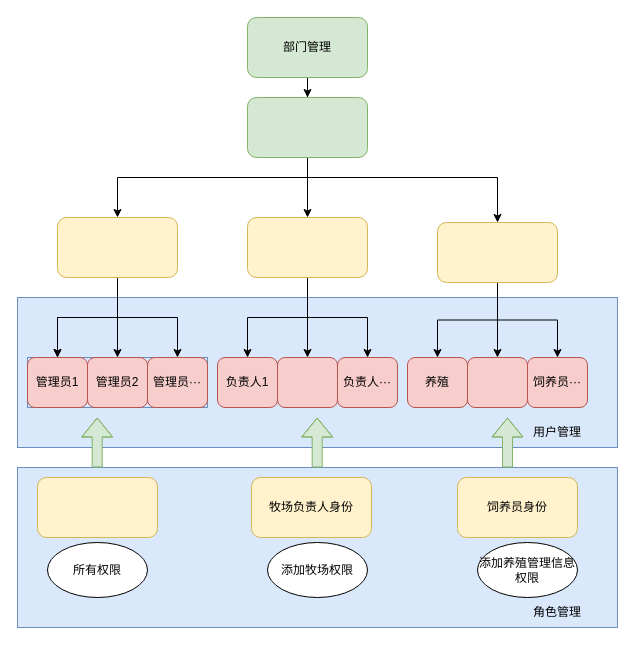
The diagram is 635 pixels wide and 645 high, and some of its shapes have lost their labels. The shapes that lost their labels are listed below. From the top down, each one's centre as x and y in pixels, then its label:
At [307,127]: "苏尼特羊管理结构".
At [117,247]: "管理员".
At [307,247]: "牧场负责人".
At [497,252]: "饲养员".
At [307,382]: "负责人2".
At [497,382]: "体重".
At [97,507]: "管理员身份".
